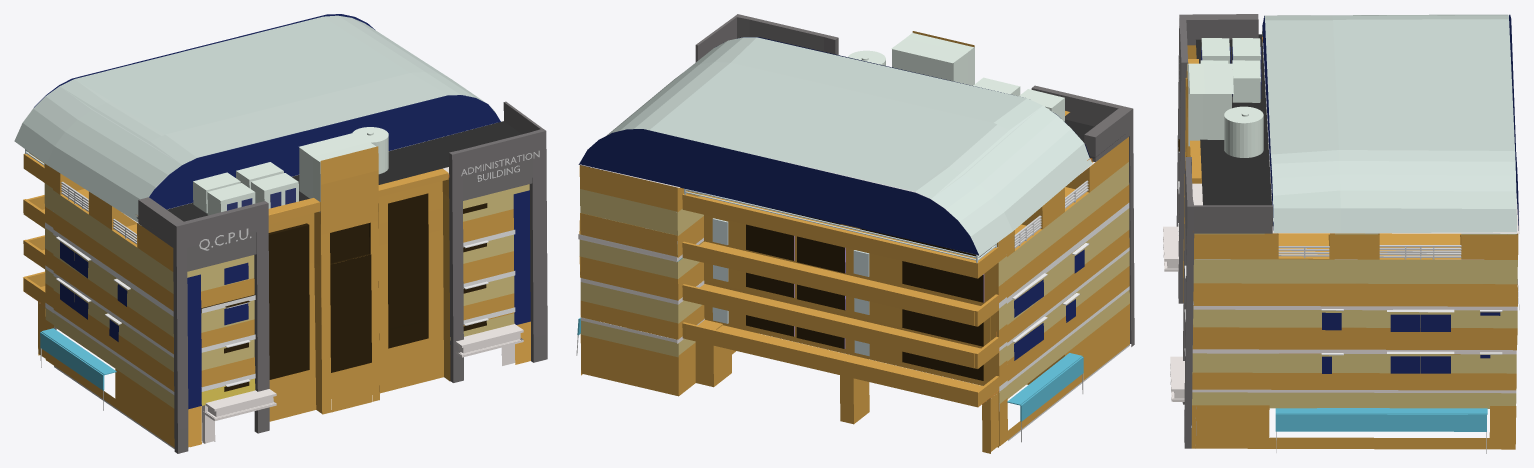
Rendered from og_admin.glb.
The picture shows the model from 3 angles, left to right: view 1: azimuth 30°, elevation 25°; view 2: azimuth 150°, elevation 25°; view 3: azimuth 270°, elevation 25°; orthographic projection. The views are drawn at different scales.
Visible parts, largest first — view 1: Cube.002; view 2: Cube.002; view 3: Cube.002.
Part boxes in pixels (x1=…): Cube.002: x1=14, y1=14, x2=547, y2=453; Cube.002: x1=576, y1=14, x2=1134, y2=453; Cube.002: x1=1163, y1=14, x2=1519, y2=453.
Size of the model in its own units: 5.12 by 3.12 by 3.7.
